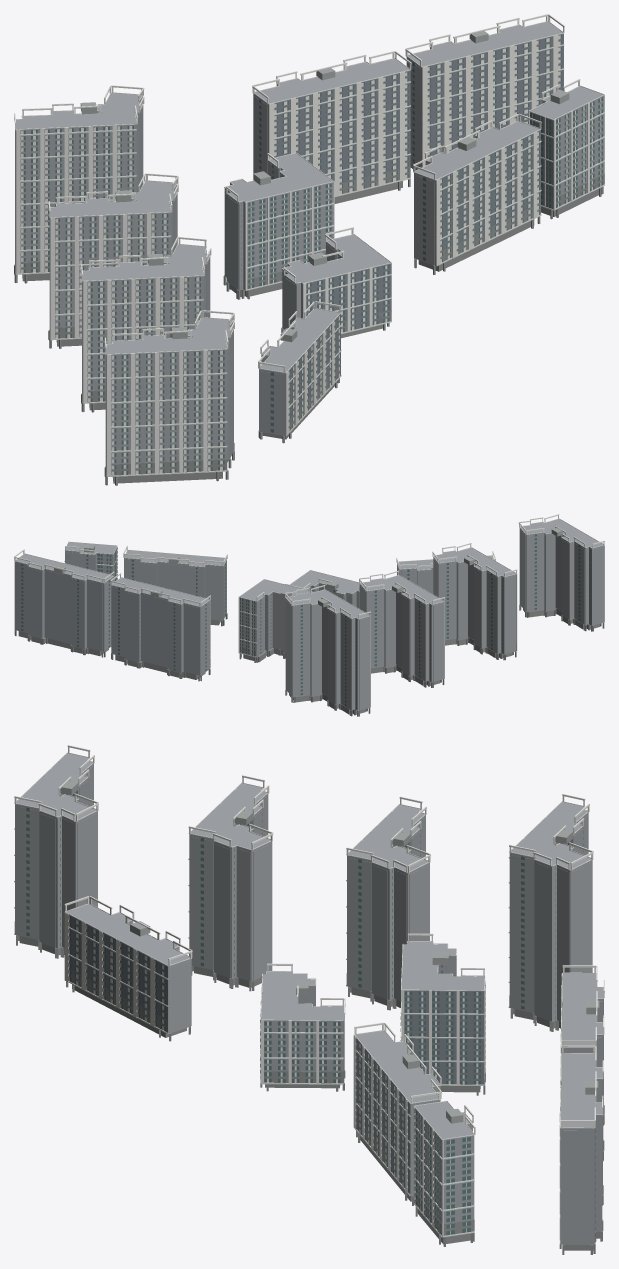
Rendered from representative-a10023922.glb.
The picture shows the model from 3 angles, top to bottom: view 1: azimuth 30°, elevation 25°; view 2: azimuth 150°, elevation 25°; view 3: azimuth 270°, elevation 25°; orthographic projection. The views are drawn at different scales.
Visible parts, largest first — view 1: A10023922_wall001, A10023922_trim001, A10023922_glass001, A10023922_accent001, A10023922_base001, A10023922_roof001; view 2: A10023922_wall001, A10023922_trim001, A10023922_base001, A10023922_glass001, A10023922_roof001; view 3: A10023922_wall001, A10023922_trim001, A10023922_glass001, A10023922_accent001, A10023922_base001, A10023922_roof001.
Part boxes in pixels (x1=…): A10023922_wall001: x1=15, y1=21, x2=604, y2=475; A10023922_trim001: x1=14, y1=14, x2=604, y2=476; A10023922_glass001: x1=20, y1=35, x2=602, y2=475; A10023922_accent001: x1=274, y1=33, x2=563, y2=420; A10023922_base001: x1=14, y1=164, x2=604, y2=485; A10023922_roof001: x1=80, y1=30, x2=569, y2=342; A10023922_wall001: x1=14, y1=519, x2=604, y2=710; A10023922_trim001: x1=14, y1=514, x2=604, y2=706; A10023922_base001: x1=14, y1=604, x2=604, y2=716; A10023922_glass001: x1=21, y1=534, x2=590, y2=708; A10023922_roof001: x1=54, y1=528, x2=563, y2=607; A10023922_wall001: x1=15, y1=753, x2=603, y2=1244; A10023922_trim001: x1=14, y1=745, x2=604, y2=1244; A10023922_glass001: x1=26, y1=761, x2=595, y2=1236; A10023922_accent001: x1=68, y1=915, x2=562, y2=1243; A10023922_base001: x1=14, y1=921, x2=604, y2=1254; A10023922_roof001: x1=60, y1=781, x2=599, y2=1123.
Size of the model in its own units: 319 by 71.15 by 220.
